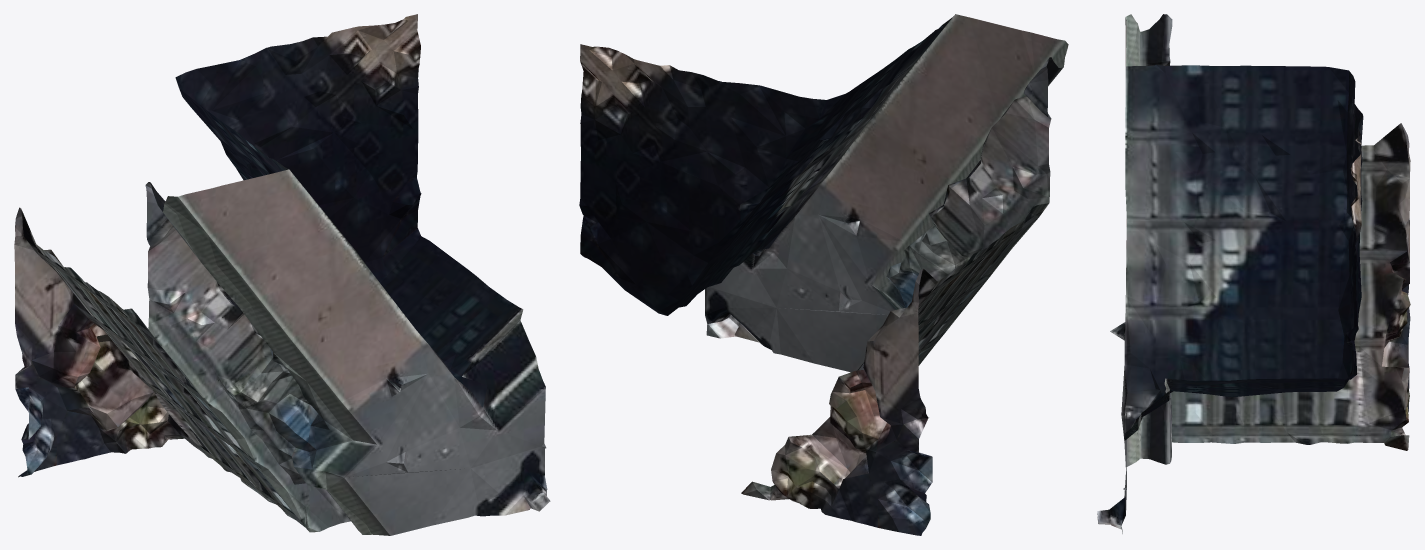
The model's file is Tile_+032_+021_L19_000030.obj.
3 renders of one model, left to right at view 1: azimuth 30°, elevation 25°; view 2: azimuth 150°, elevation 25°; view 3: azimuth 270°, elevation 25°, orthographic. The views are drawn at different scales.
Size of the model in its own units: 31.75 by 31.75 by 25.34.
Materials: 1 (1 with a texture image).
